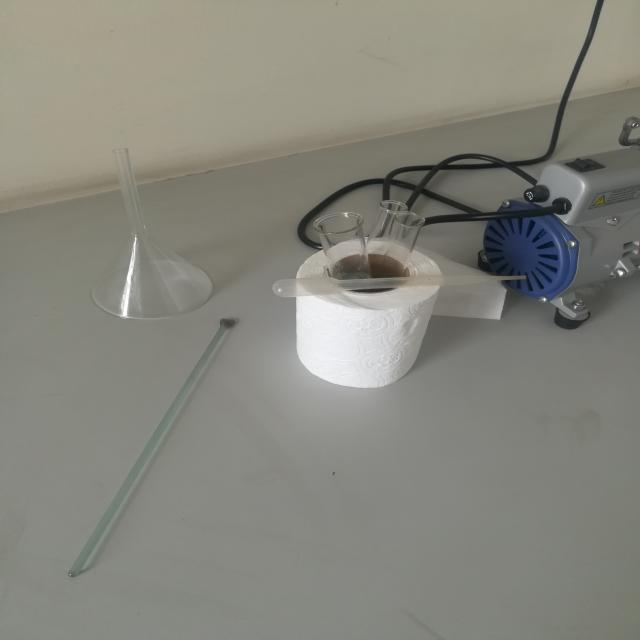Funnel: (84, 123, 234, 325)
Glass_Rod: (27, 305, 278, 605)
Pipette: (261, 249, 533, 315)
